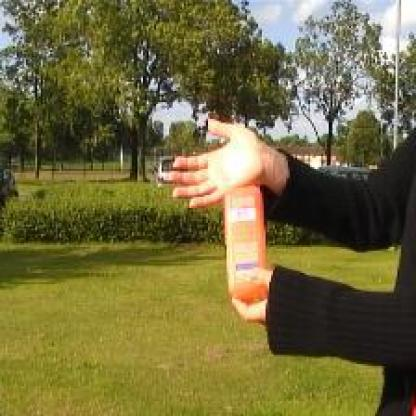other: (170, 101, 269, 301)
